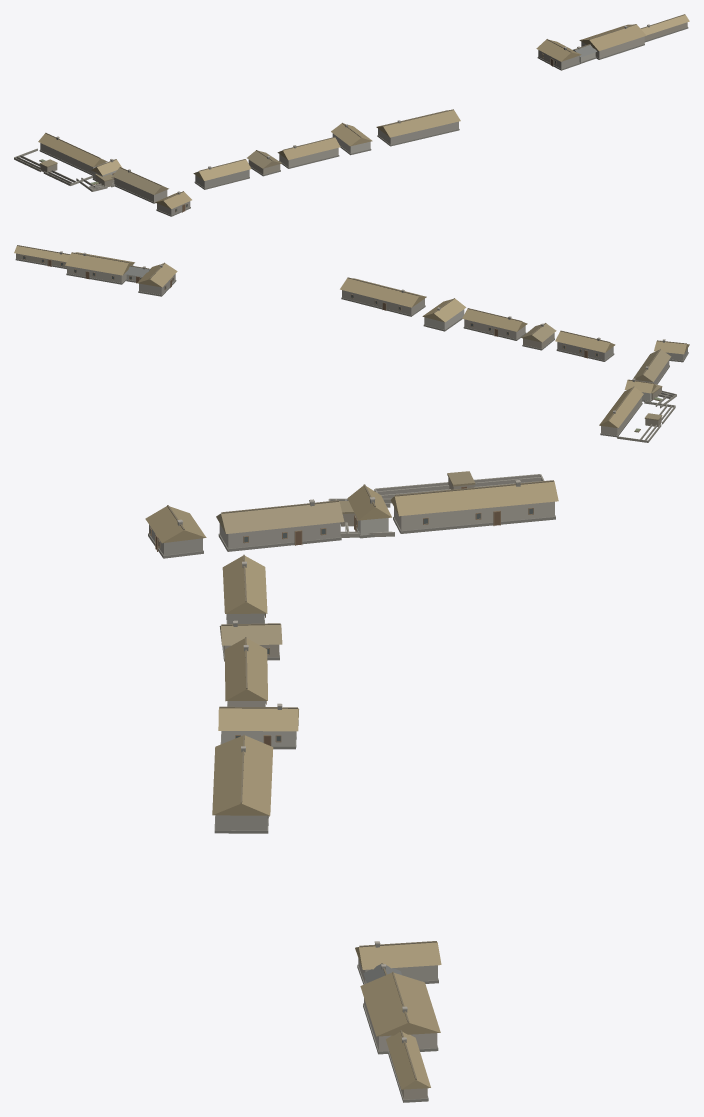
File: dunkeld_burgh_settlement.glb
3 renders of one model, top to bottom at view 1: azimuth 30°, elevation 25°; view 2: azimuth 150°, elevation 25°; view 3: azimuth 270°, elevation 25°, orthographic. The views are drawn at different scales.
Parts seen in each view (by area): view 1: Roofs_thatch1, Roofs_thatch2, HouseWalls_stone1, HouseWalls_stone2, HouseWalls_plinth, Roofs_thatch3, GardenBoundaries_wall, RoofRidges_ridge, HouseWalls_stone3, HouseWalls_earth, HouseWalls_lime; view 2: Roofs_thatch1, Roofs_thatch2, HouseWalls_stone2, HouseWalls_plinth, HouseWalls_stone1, Roofs_thatch3, RoofRidges_ridge, GardenBoundaries_wall, HouseWalls_stone3, HouseWalls_earth, HouseWalls_lime; view 3: Roofs_thatch1, Roofs_thatch2, Roofs_thatch3, HouseWalls_stone2, HouseWalls_stone1, HouseWalls_plinth, RoofRidges_ridge, GardenBoundaries_wall, HouseWalls_lime, HouseWalls_stone3.
Boxes of the visible parts, x1=… form: Roofs_thatch1: x1=38, y1=24, x2=646, y2=208; Roofs_thatch2: x1=91, y1=15, x2=689, y2=180; HouseWalls_stone1: x1=114, y1=50, x2=579, y2=201; HouseWalls_stone2: x1=40, y1=36, x2=644, y2=173; HouseWalls_plinth: x1=39, y1=27, x2=688, y2=216; Roofs_thatch3: x1=112, y1=150, x2=281, y2=194; GardenBoundaries_wall: x1=14, y1=148, x2=115, y2=191; RoofRidges_ridge: x1=45, y1=14, x2=685, y2=200; HouseWalls_stone3: x1=157, y1=169, x2=249, y2=215; HouseWalls_earth: x1=248, y1=22, x2=687, y2=174; HouseWalls_lime: x1=93, y1=52, x2=595, y2=179; Roofs_thatch1: x1=65, y1=252, x2=689, y2=427; Roofs_thatch2: x1=14, y1=246, x2=656, y2=393; HouseWalls_stone2: x1=67, y1=265, x2=641, y2=435; HouseWalls_plinth: x1=15, y1=258, x2=688, y2=437; HouseWalls_stone1: x1=139, y1=274, x2=669, y2=384; Roofs_thatch3: x1=521, y1=323, x2=671, y2=382; RoofRidges_ridge: x1=17, y1=245, x2=686, y2=420; GardenBoundaries_wall: x1=617, y1=390, x2=676, y2=442; HouseWalls_stone3: x1=557, y1=342, x2=687, y2=360; HouseWalls_earth: x1=16, y1=253, x2=554, y2=348; HouseWalls_lime: x1=126, y1=274, x2=651, y2=400; Roofs_thatch1: x1=145, y1=481, x2=558, y2=1036; Roofs_thatch2: x1=218, y1=485, x2=430, y2=1089; Roofs_thatch3: x1=216, y1=501, x2=344, y2=645; HouseWalls_stone2: x1=228, y1=501, x2=554, y2=1051; HouseWalls_stone1: x1=215, y1=522, x2=437, y2=983; HouseWalls_plinth: x1=148, y1=515, x2=555, y2=1102; RoofRidges_ridge: x1=167, y1=480, x2=553, y2=1079; GardenBoundaries_wall: x1=328, y1=474, x2=544, y2=537; HouseWalls_lime: x1=221, y1=514, x2=388, y2=746; HouseWalls_stone3: x1=149, y1=525, x2=264, y2=624.
Bounding box in the file's own units: 170 × 4.39 × 47.47.
